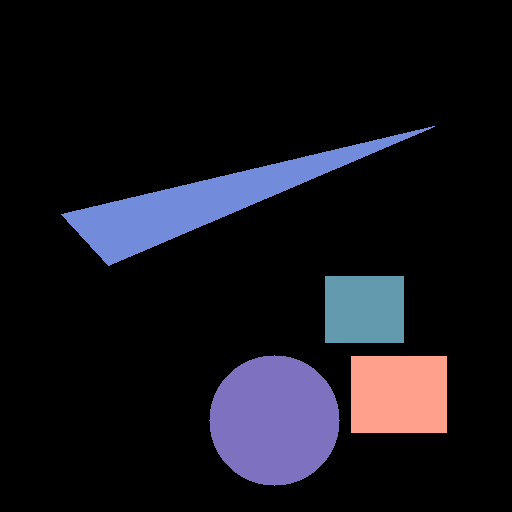circle: (209, 355, 339, 485)
rectangle: (351, 356, 446, 432), (325, 276, 403, 342)
triangle: (61, 126, 434, 265)
